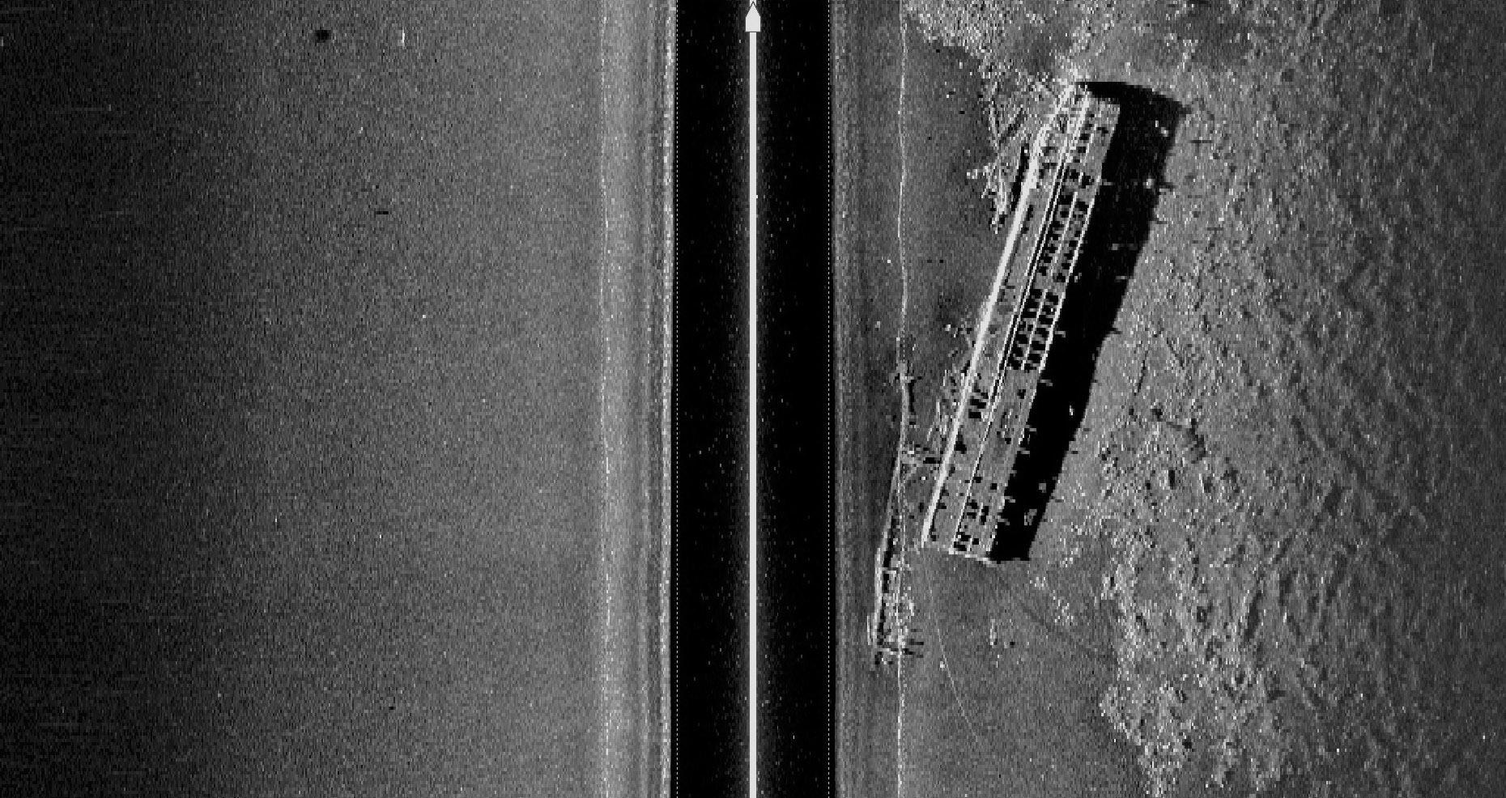ship: (917, 83, 1122, 565)
